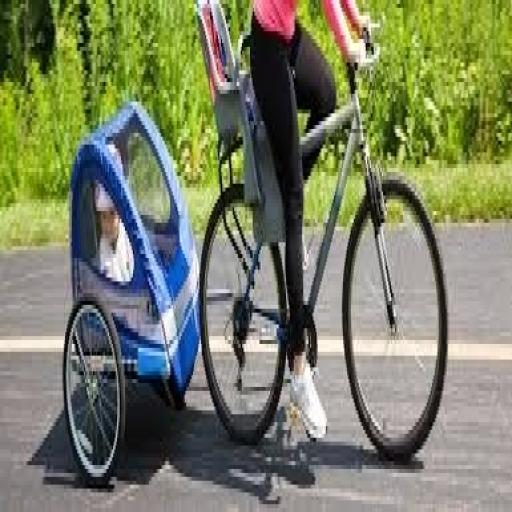cycling: (246, 0, 374, 446), (90, 137, 137, 293)
